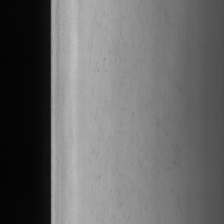silk_spot: (88, 14, 135, 205)
